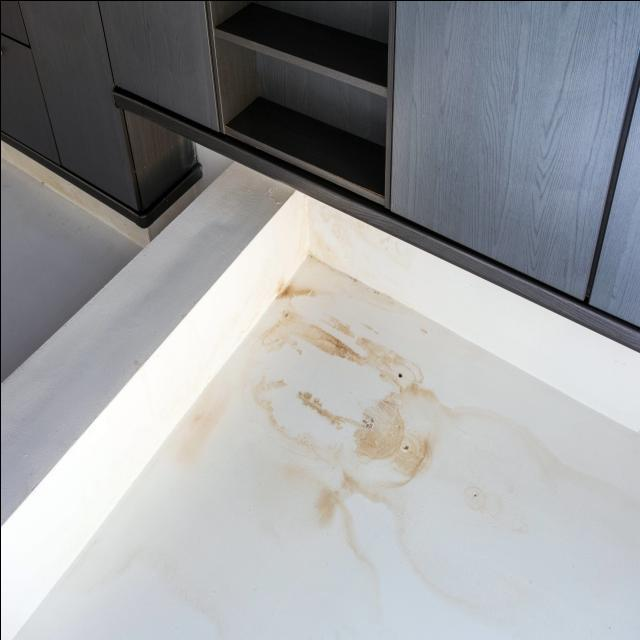Crack: (359, 414, 378, 431), (403, 442, 412, 454), (281, 313, 293, 321), (397, 372, 403, 381), (473, 495, 483, 500)
leak: (266, 279, 326, 299)
